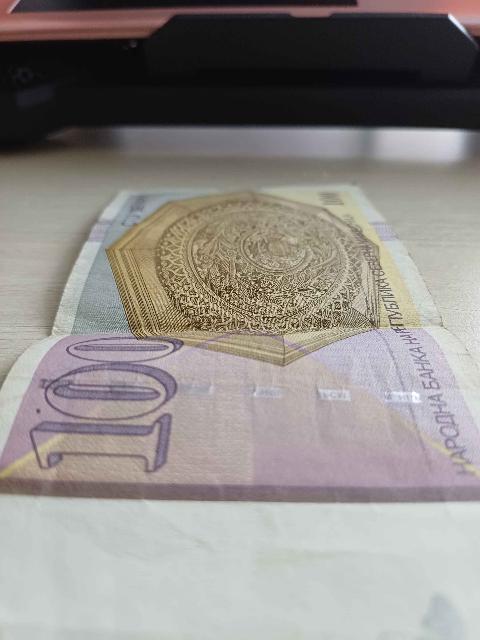100_note: (0, 169, 479, 639)
